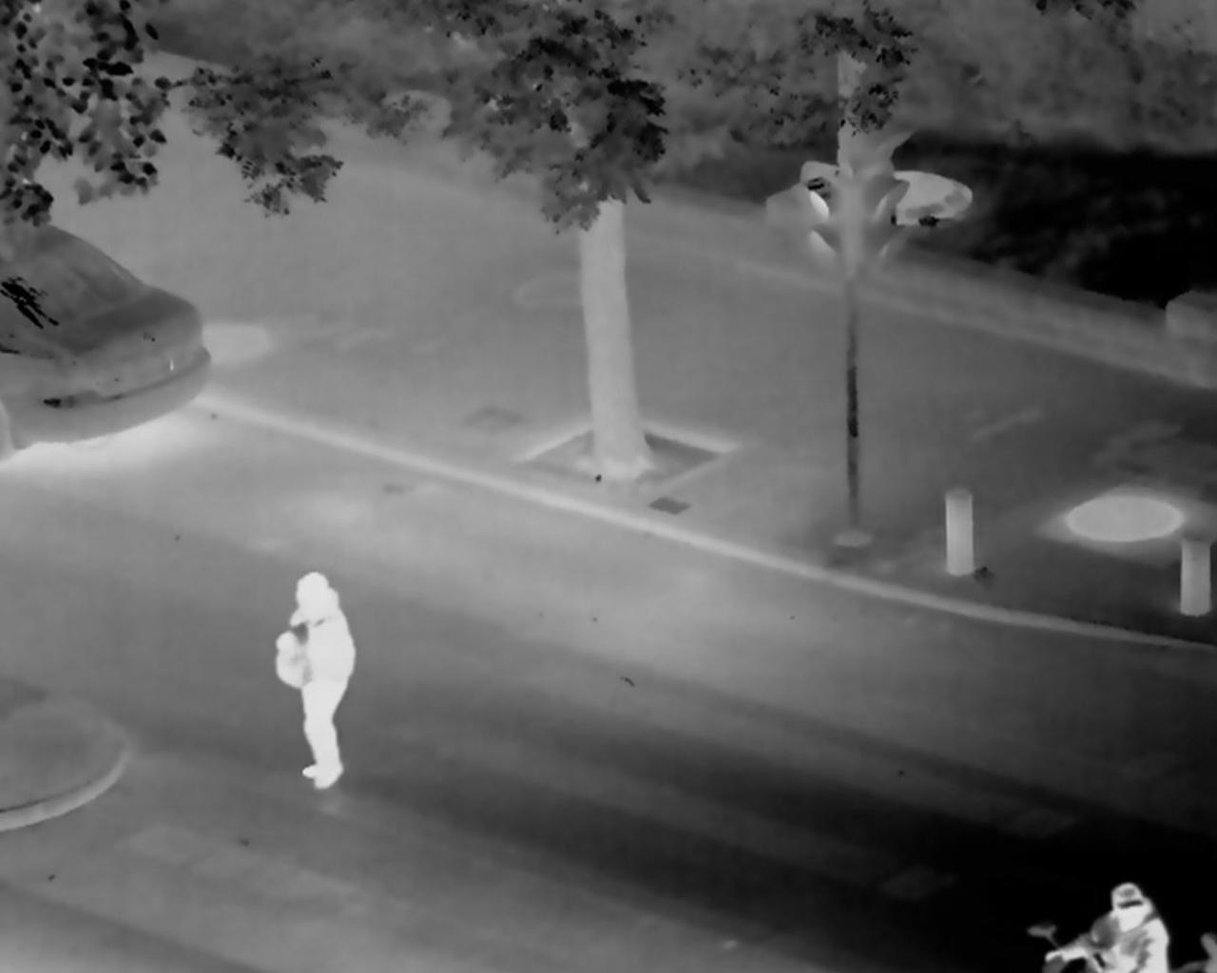person: (273, 565, 359, 783)
